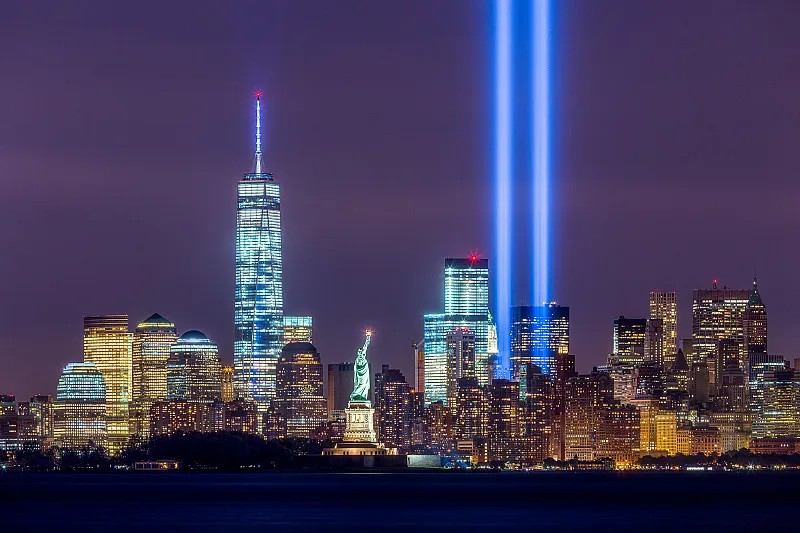SL: (342, 329, 376, 442)
